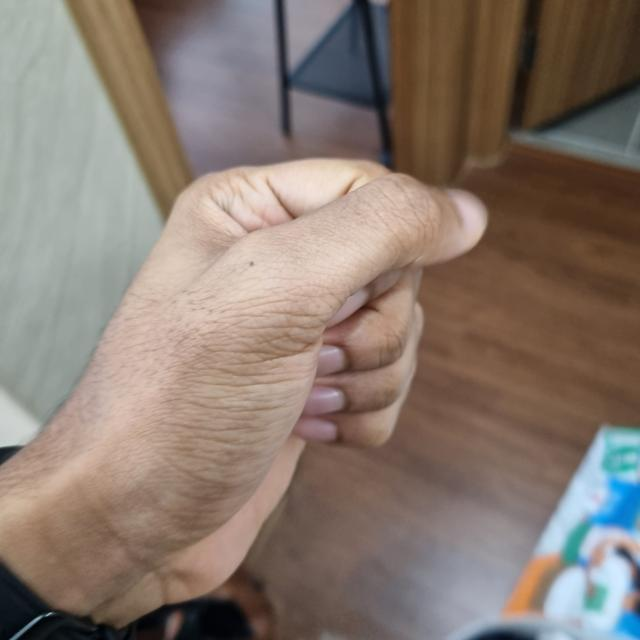Rock: (40, 158, 484, 583)
